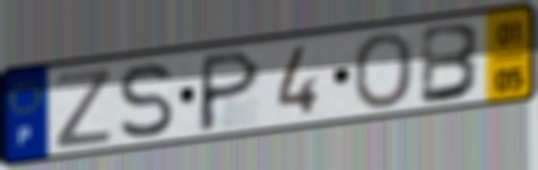4: (274, 41, 324, 120)
B: (417, 20, 486, 108)
O: (350, 29, 416, 112)
P: (194, 47, 264, 135)
S: (116, 60, 176, 142)
Z: (52, 66, 114, 151)
